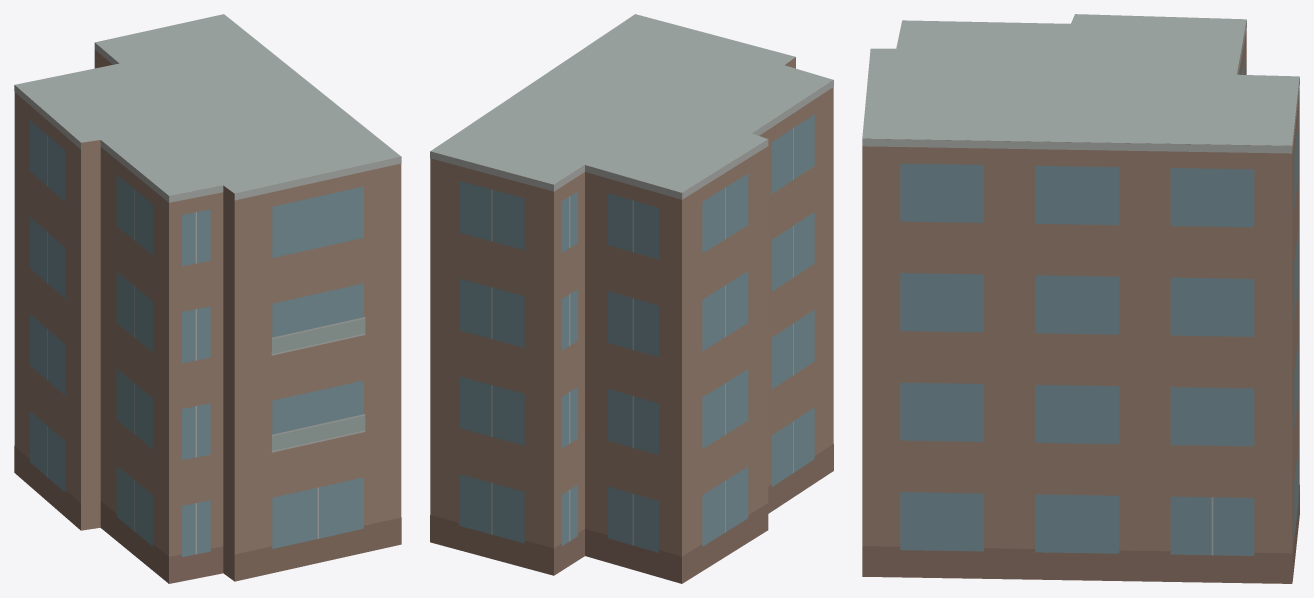
Rendered from survey-upis-32589533.glb.
The picture shows the model from 3 angles, left to right: view 1: azimuth 30°, elevation 25°; view 2: azimuth 150°, elevation 25°; view 3: azimuth 270°, elevation 25°; orthographic projection. The views are drawn at different scales.
Parts seen in each view (by area): view 1: survey-upis-32589533.tmp; view 2: survey-upis-32589533.tmp; view 3: survey-upis-32589533.tmp.
Part boxes in pixels (bbox=[...]): survey-upis-32589533.tmp: bbox=[14, 14, 401, 583]; survey-upis-32589533.tmp: bbox=[430, 14, 833, 583]; survey-upis-32589533.tmp: bbox=[862, 14, 1299, 583].
Size of the model in its own units: 8.91 by 13.8 by 12.5.
